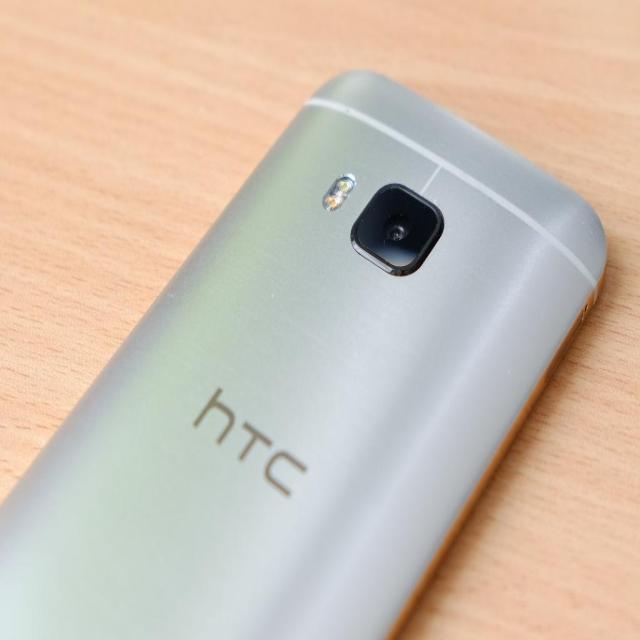Mobile-phone: (35, 74, 615, 637)
